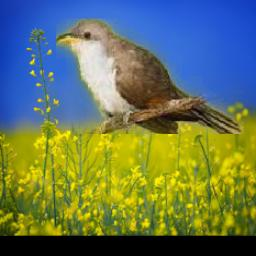Cuckoo: (55, 19, 243, 135)
